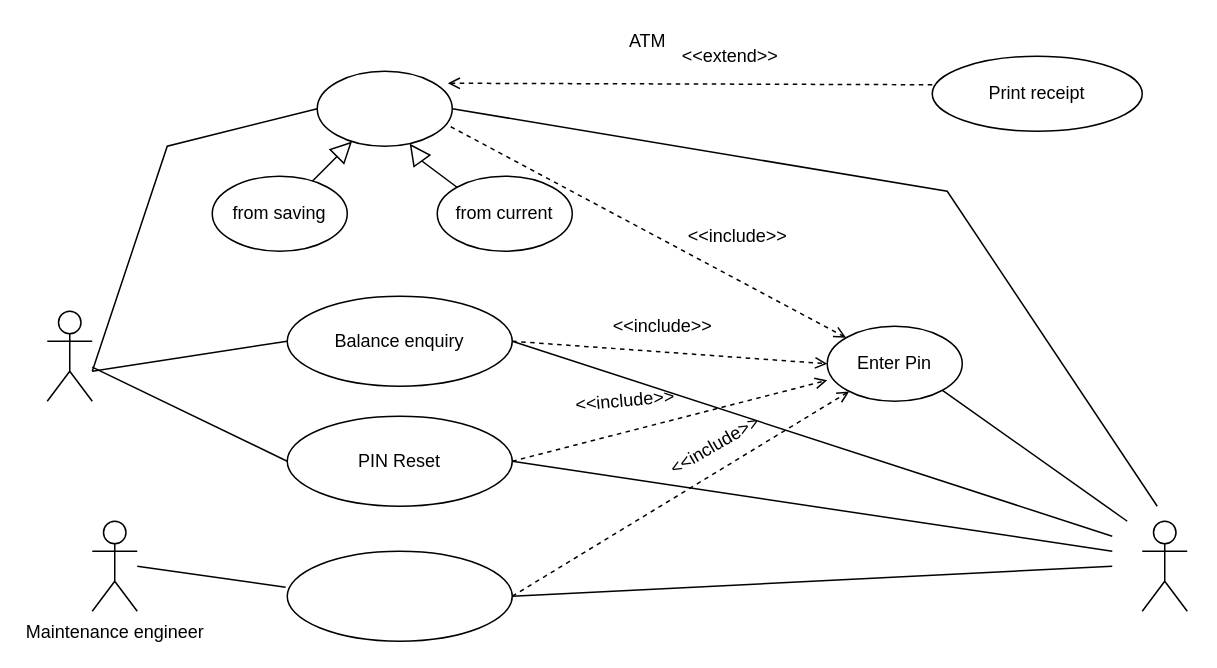
The diagram is 1217 pixels wide and 668 high, and some of its shapes have lost their labels. Here are the shapes that lost their labels. From the top down, the box of each, then its label:
(316, 70, 452, 146): Withdrawl
(46, 310, 92, 401): User
(1141, 520, 1187, 611): Server
(286, 550, 512, 641): Maintenance
